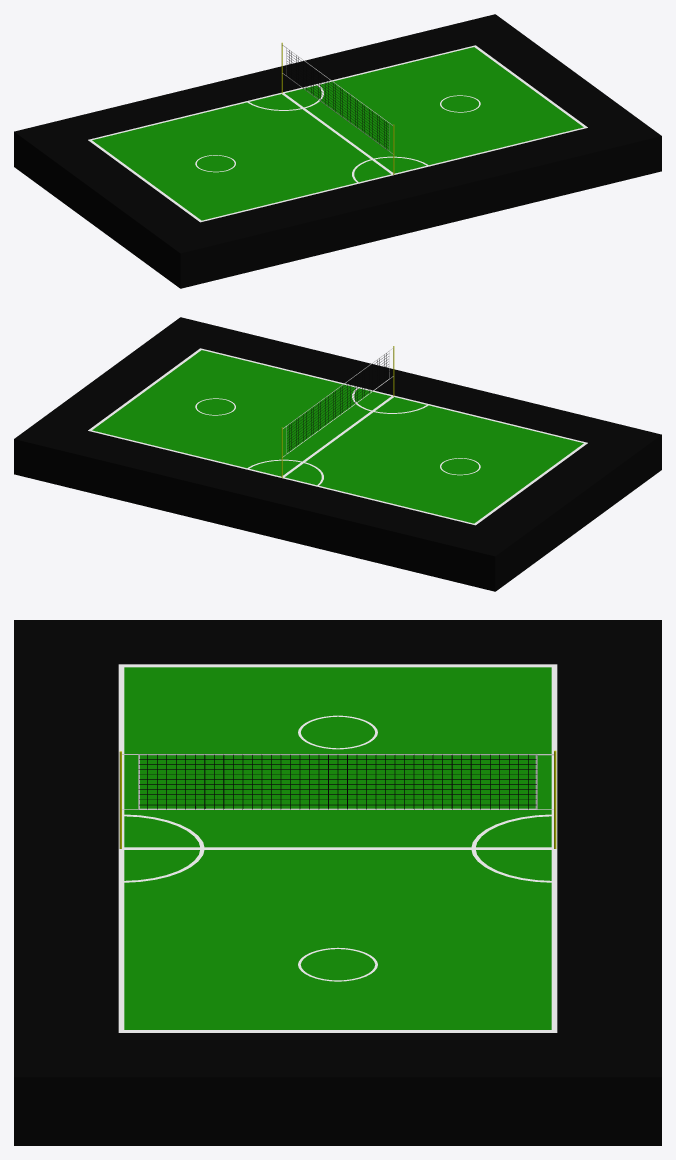
The model's file is sepak.fbx.
The picture shows the model from 3 angles, top to bottom: view 1: azimuth 30°, elevation 25°; view 2: azimuth 150°, elevation 25°; view 3: azimuth 270°, elevation 25°; orthographic projection. The views are drawn at different scales.
Parts seen in each view (by area): view 1: Cube, net; view 2: Cube, net; view 3: Cube, net.
Part boxes in pixels (x1,y1,x2,y2): Cube: (14,14,661,288); net: (281,42,394,174); Cube: (14,317,661,591); net: (281,346,394,477); Cube: (14,620,661,1145); net: (119,750,556,848).
Size of the model in its own units: 5510 by 935 by 3301.
